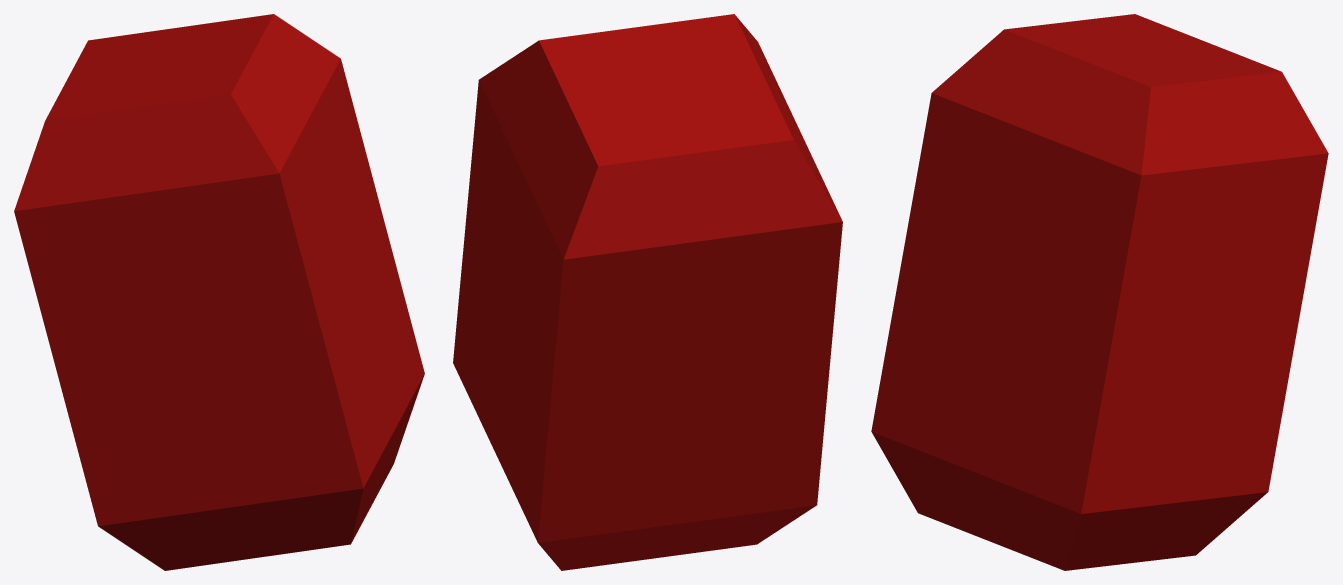
Rendered from town_jewel0004.obj.
3 views of the same model, side by side, from view 1: azimuth 30°, elevation 25°; view 2: azimuth 150°, elevation 25°; view 3: azimuth 270°, elevation 25° (orthographic). The views are drawn at different scales.
Parts seen in each view (by area): view 1: RedJewel; view 2: RedJewel; view 3: RedJewel.
Boxes of the visible parts, x1,y1,x2,y2 form: RedJewel: (14,14,424,570); RedJewel: (453,14,842,570); RedJewel: (871,14,1328,570).
Size of the model in its own units: 1.03 by 1.21 by 1.03.
